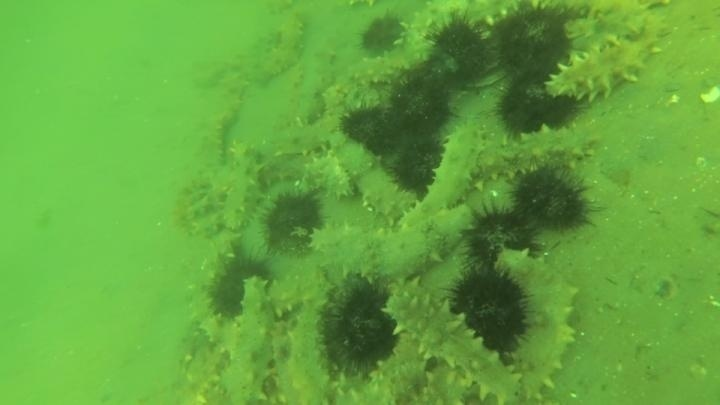echinus: (318, 276, 403, 378), (445, 266, 534, 356), (485, 3, 579, 87), (458, 202, 544, 276), (508, 162, 596, 234), (493, 76, 583, 139), (423, 14, 499, 87), (384, 70, 456, 138), (205, 252, 277, 320), (258, 187, 327, 252), (388, 134, 448, 197), (337, 102, 400, 157), (357, 12, 408, 58)
holothurian: (380, 279, 526, 403), (307, 209, 474, 287), (498, 249, 582, 402), (543, 16, 667, 107), (206, 276, 282, 404), (470, 121, 601, 187), (269, 290, 338, 404), (416, 123, 489, 217), (338, 143, 419, 226), (195, 68, 250, 171), (291, 12, 338, 126), (560, 6, 655, 58), (342, 37, 435, 89), (175, 173, 238, 247), (217, 143, 267, 233), (251, 12, 309, 85), (186, 288, 243, 359), (395, 2, 469, 54), (411, 1, 523, 35), (263, 265, 328, 323), (270, 113, 347, 161), (182, 343, 232, 403), (300, 150, 357, 202), (201, 223, 242, 284), (255, 152, 315, 192), (195, 111, 233, 172), (305, 220, 369, 256), (461, 1, 529, 32)
starfish: (415, 360, 484, 404)
